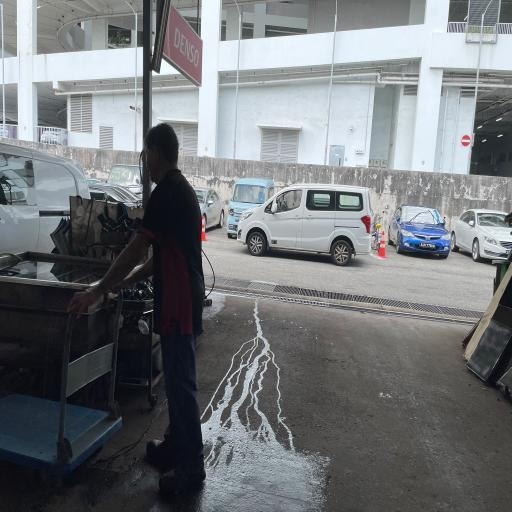person_left: (0, 123, 206, 493)
